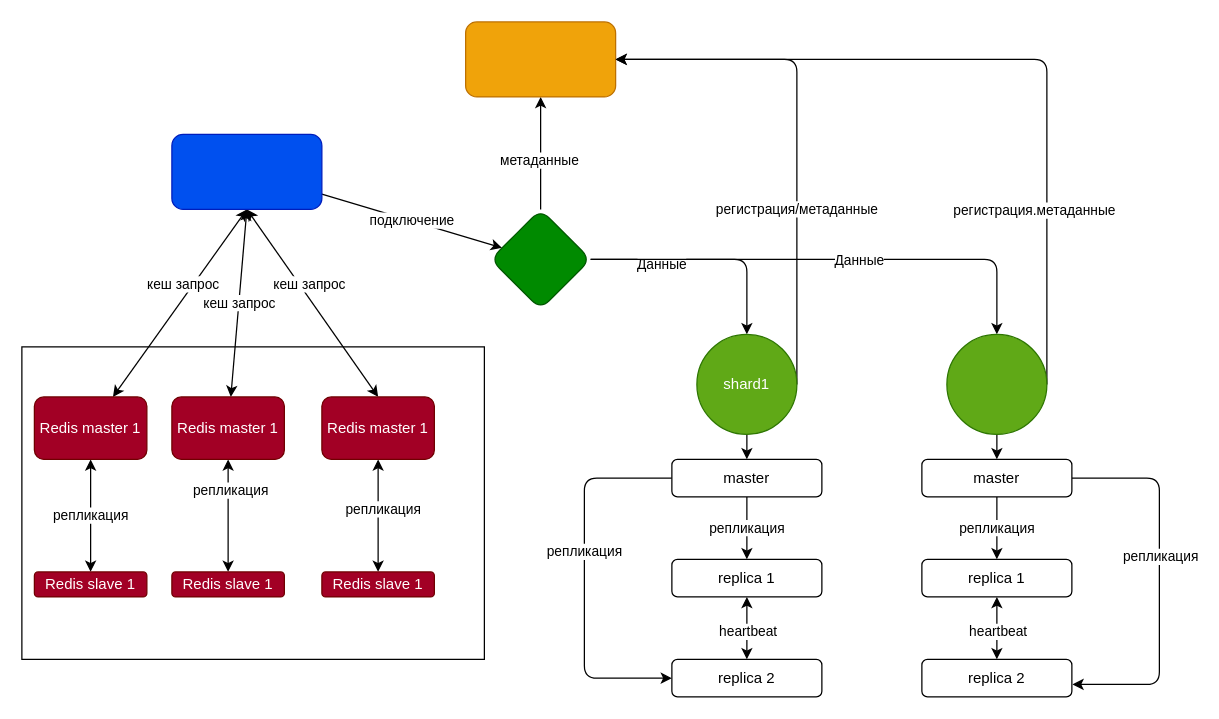
Image size: 1219x719. Some labels were removed from this diagram. Each missing label, with the box of its shape:
configSrv: (464, 21, 616, 97)
mongos router: (489, 208, 591, 309)
pymongo-app: (171, 133, 322, 209)
Redis кластер: (21, 346, 484, 659)
shard2: (946, 333, 1047, 434)
